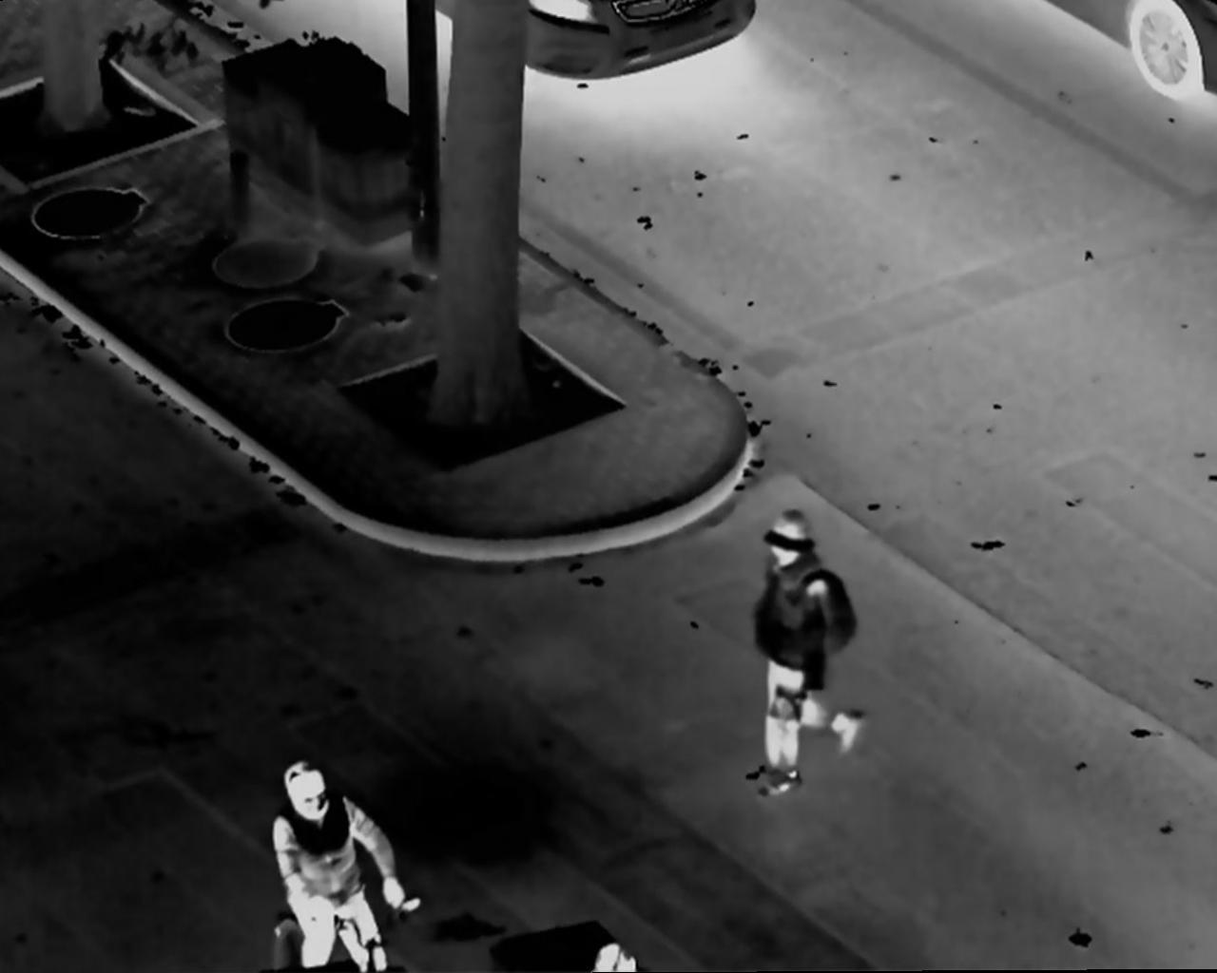person: (745, 503, 864, 803), (261, 750, 413, 969)
